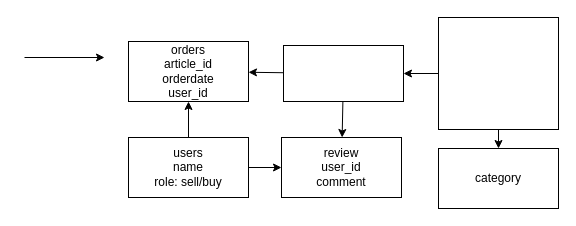
Image size: 576x226. Some labels were removed from this diagram. Each missing label, with the box of its shape:
articles color price review_id: (282, 44, 404, 102)
vehicles type: sport, suv.... model:fiat punto ecc..: (438, 16, 558, 130)
